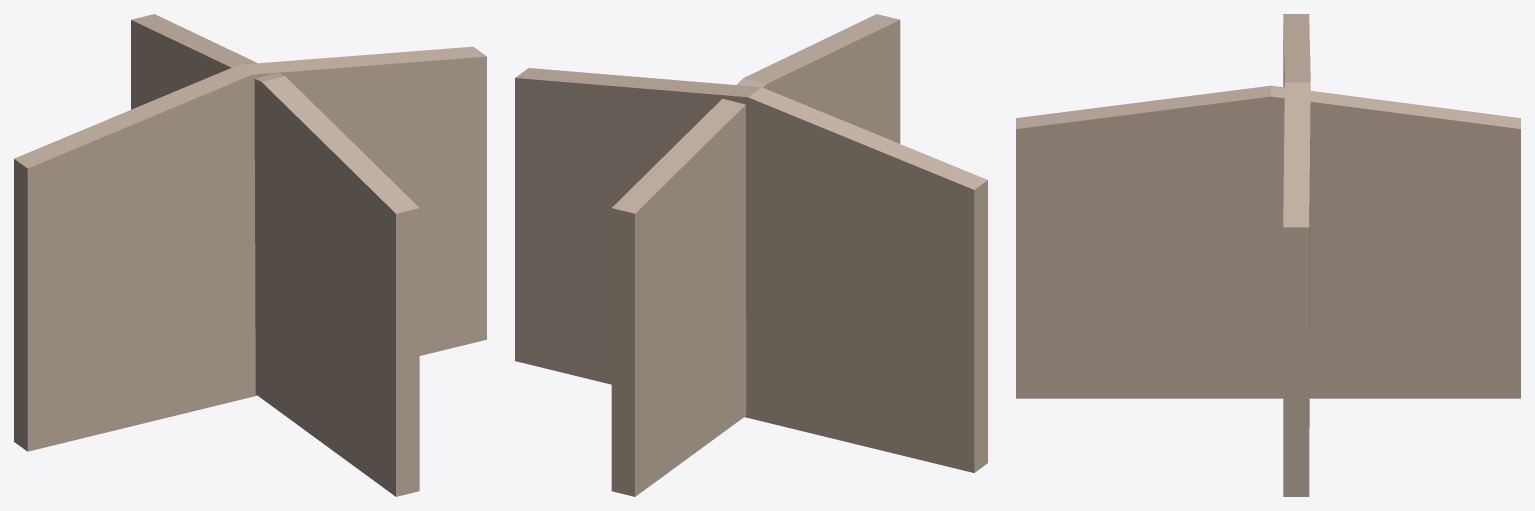
File: main_spawn.fbx
The picture shows the model from 3 angles, left to right: view 1: azimuth 30°, elevation 25°; view 2: azimuth 150°, elevation 25°; view 3: azimuth 270°, elevation 25°; orthographic projection. The views are drawn at different scales.
Parts seen in each view (by area): view 1: prop_bush; view 2: prop_bush; view 3: prop_bush.
Part boxes in pixels (x1=…): prop_bush: x1=14, y1=14, x2=486, y2=496; prop_bush: x1=515, y1=14, x2=987, y2=496; prop_bush: x1=1016, y1=14, x2=1520, y2=496.
Bounding box in the file's own units: 195 × 130 × 194.
